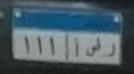1: (48, 36, 59, 60), (35, 35, 44, 57), (23, 34, 31, 55)
alif: (72, 36, 80, 58)
raa: (84, 43, 101, 60), (102, 43, 117, 60)
